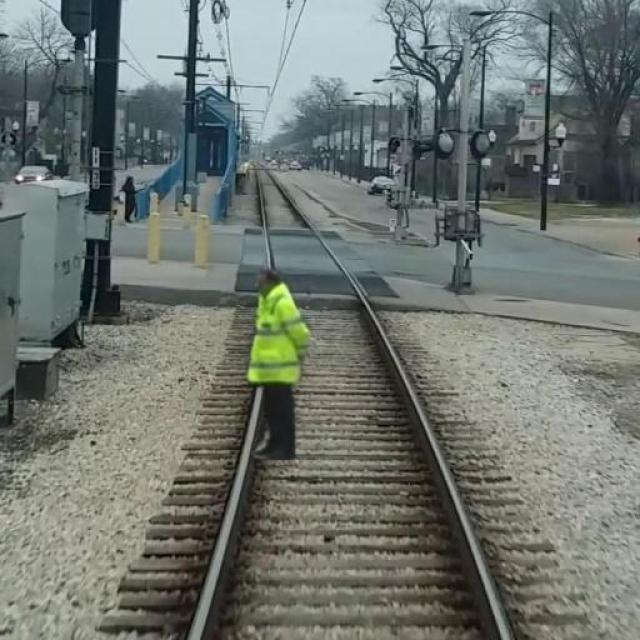people: (238, 263, 315, 462)
